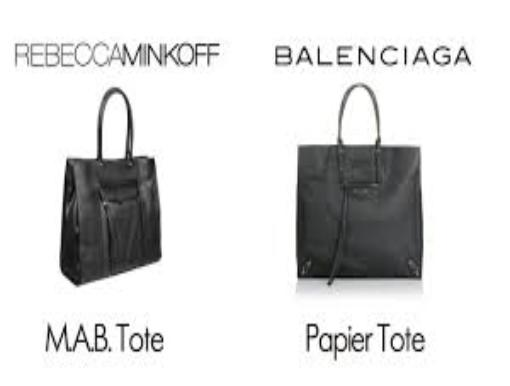BALENCIAGA: (270, 41, 477, 68)
